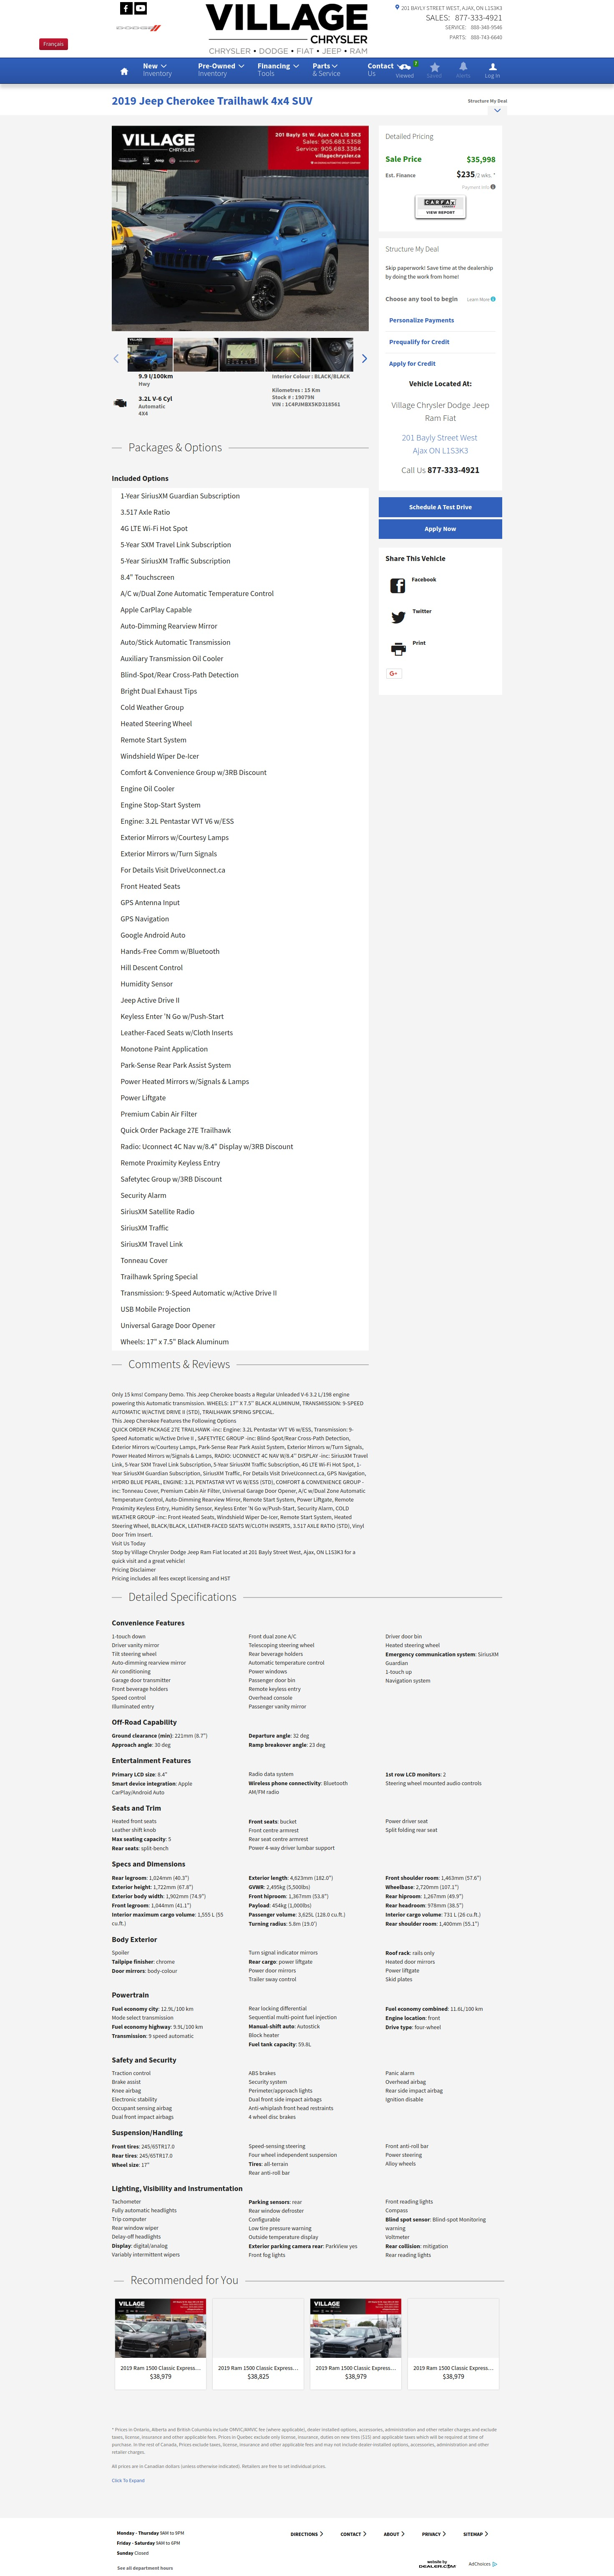car: (361, 355, 368, 363)
